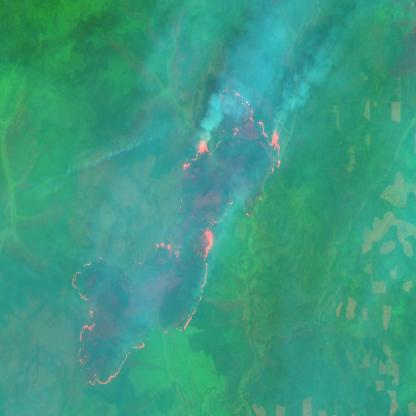fire: (68, 86, 283, 390)
